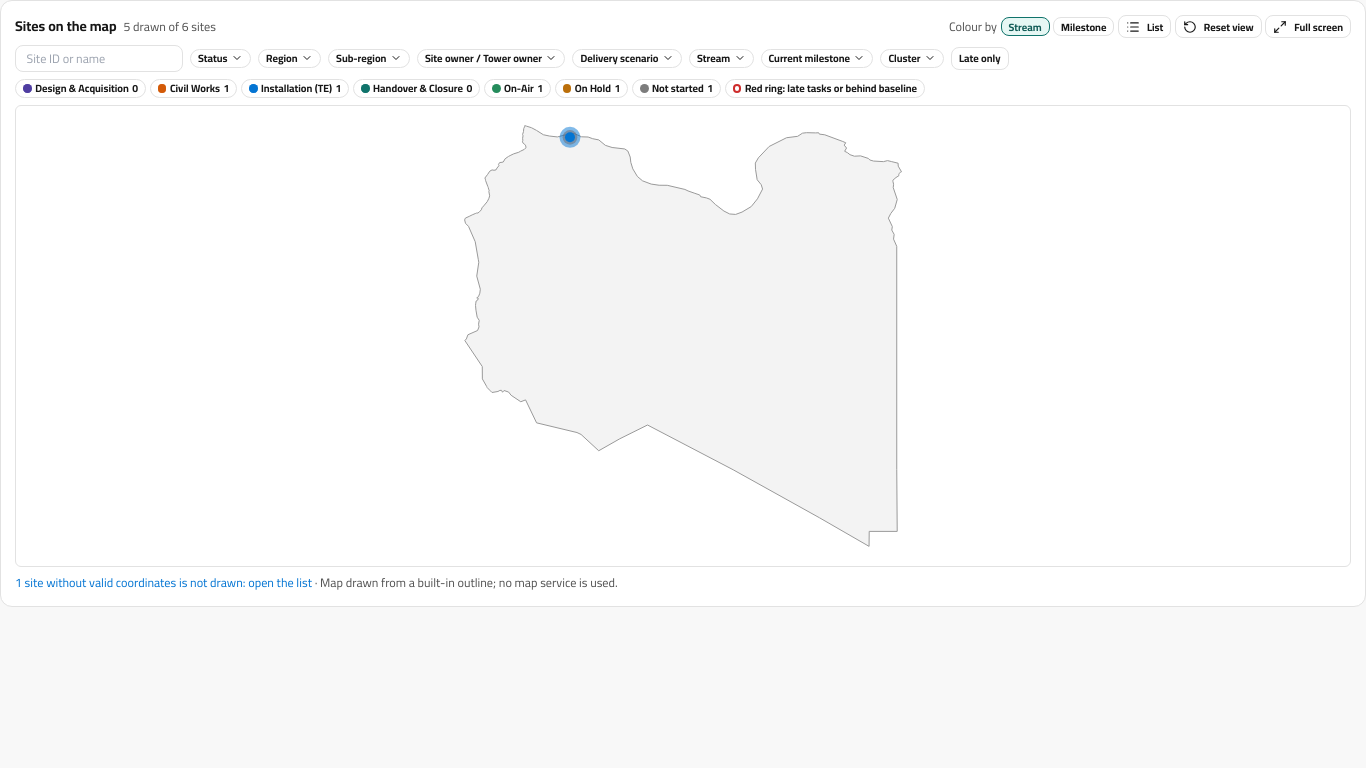
Scenario: SiteMap › filter chips change the counts and are kept in the URL; "late only" and the search too
This screenshot has width=1366, height=768.
Expected: the button with test id "map-legend-on_air" is shown, [484,78,551,98]
Click the button with test id "map-filter-region".
click(290, 58)  # box [266,51,313,65]
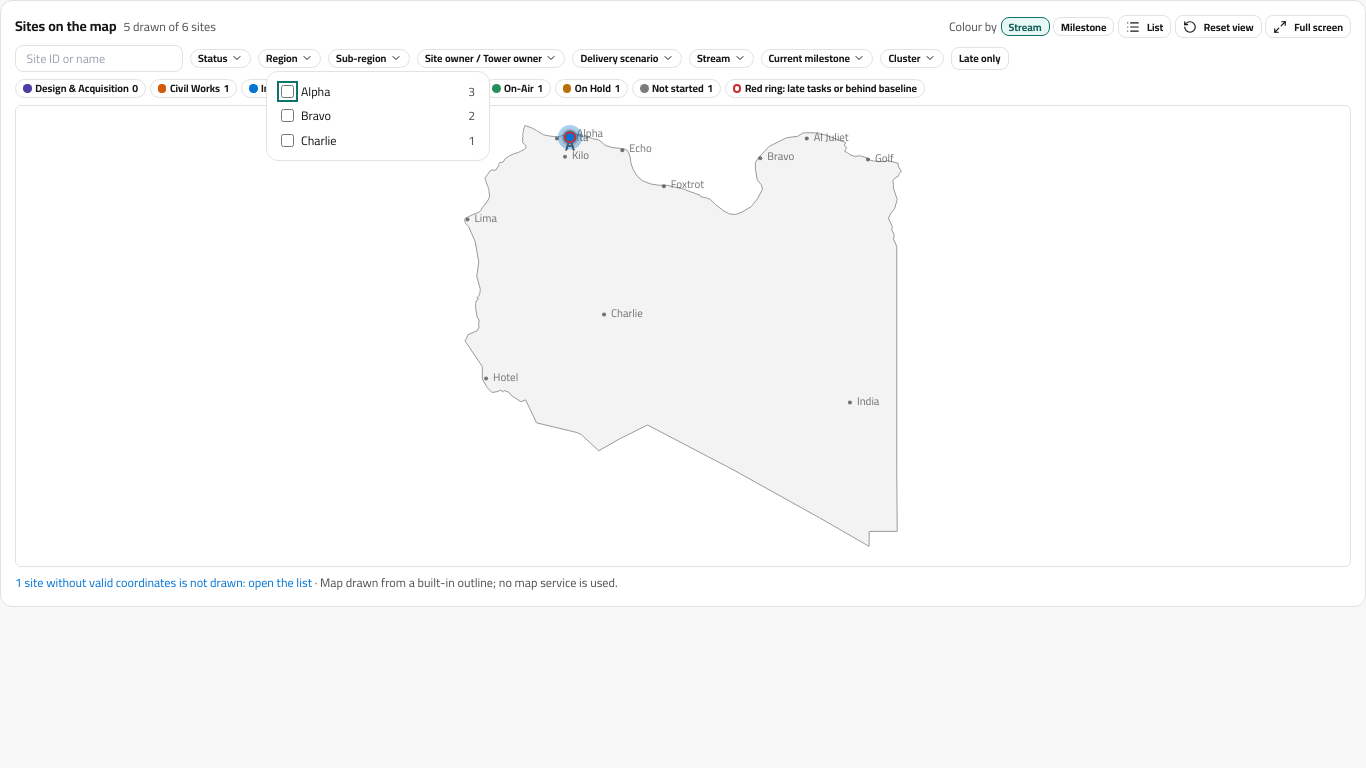
Click the checkbox with test id "map-opt-region-5".
click(288, 116)  # box [281,109,294,122]
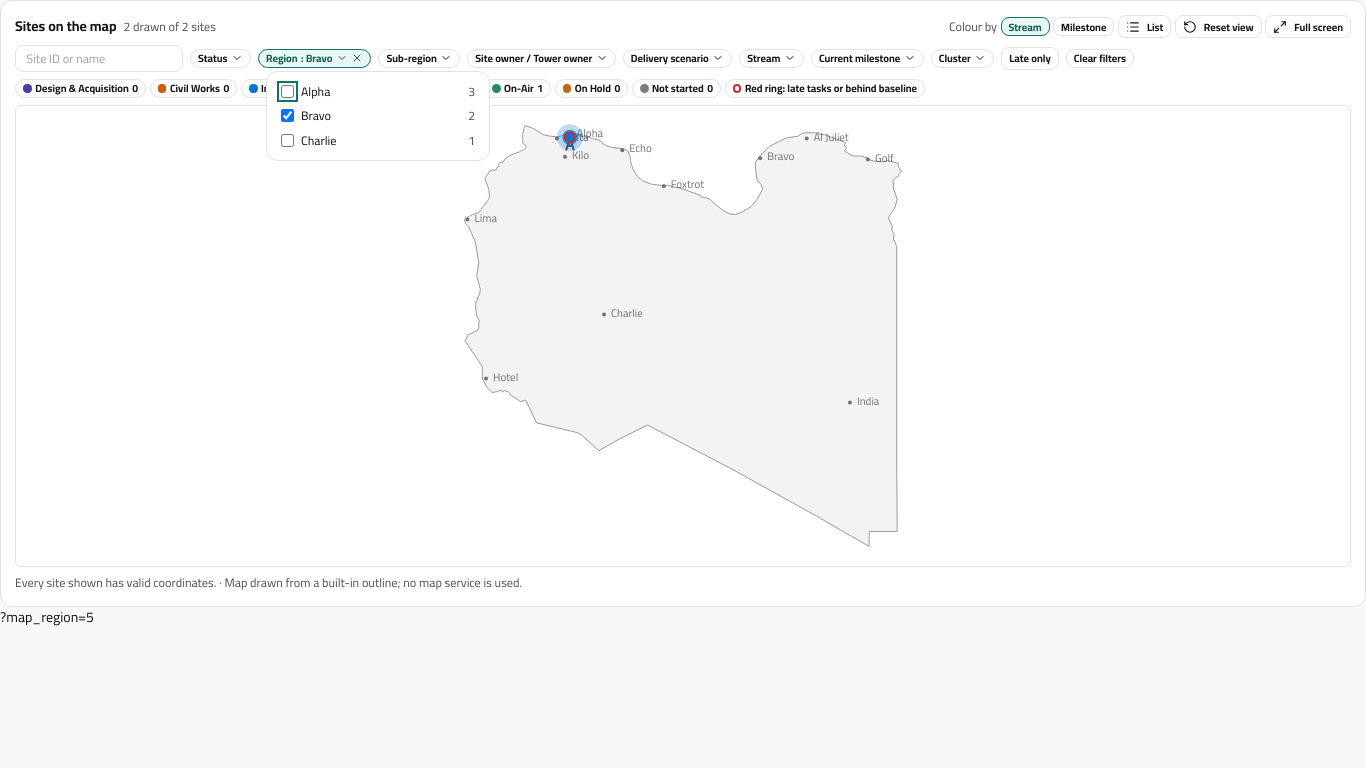
Expected: the text with test id "where" shows "map_region=5", [0,604,94,630]
Expected: the text with test id "map-count" reads "2 drawn of 2 sites", [124,15,216,38]
Click the button with test id "map-late".
click(1030, 58)  # box [1001,47,1059,70]
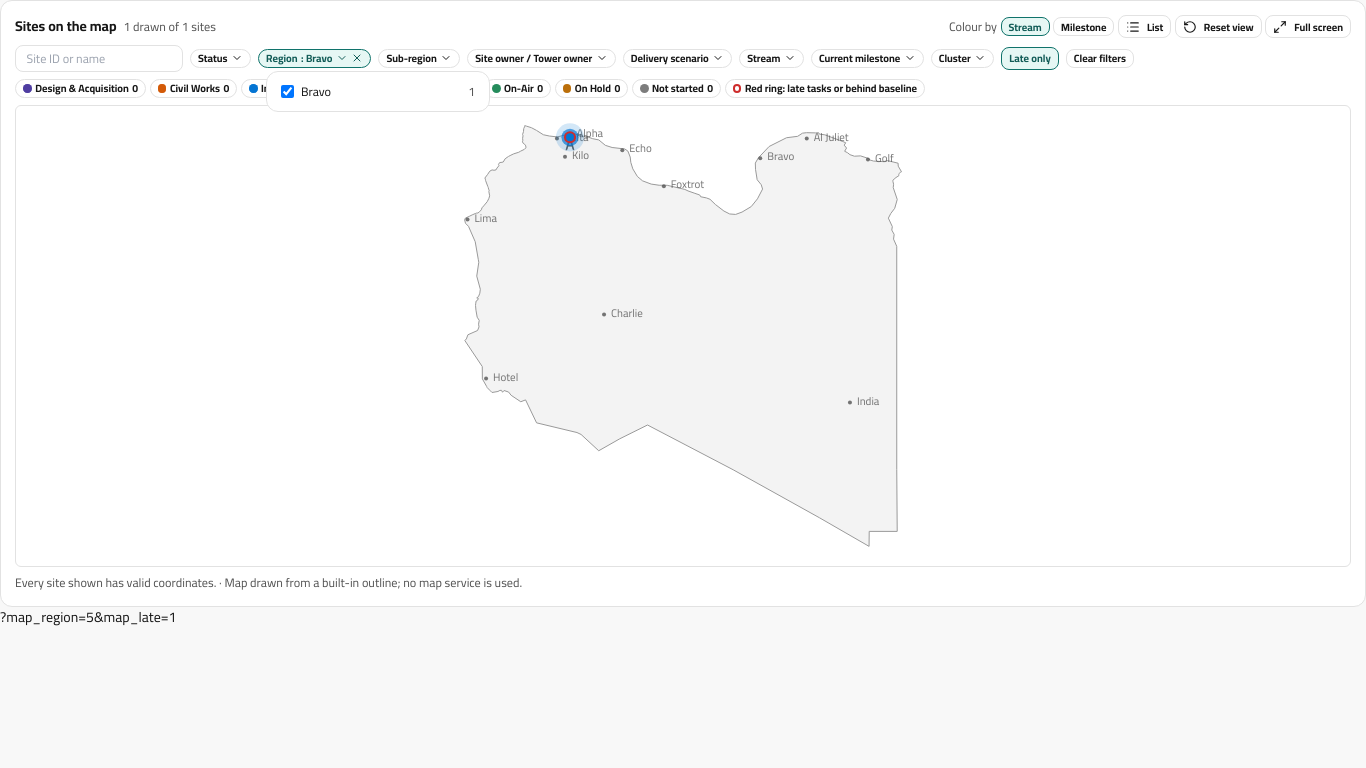
Expected: the text with test id "map-count" reads "1 drawn of 1 sites", [124,15,216,38]
Expected: the text with test id "where" shows "map_late=1", [0,604,176,630]
Click the button with test id "map-clear".
click(1100, 58)  # box [1066,48,1134,68]
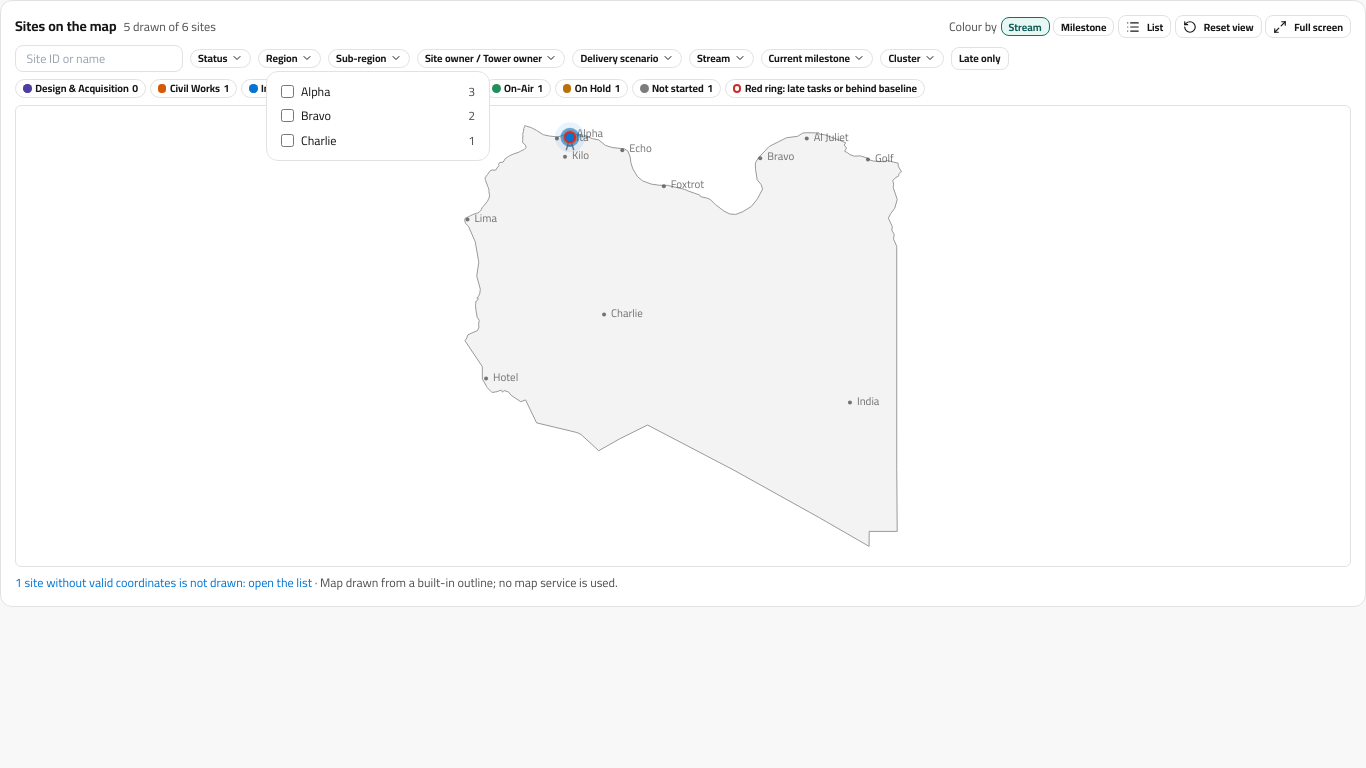
Expected: the text with test id "map-count" reads "5 drawn of 6 sites", [124,15,216,38]
Type "MAP-AIR" into the field with test id "map-search".
click(99, 58); type("MAP-AIR")  # box [15,45,183,72]
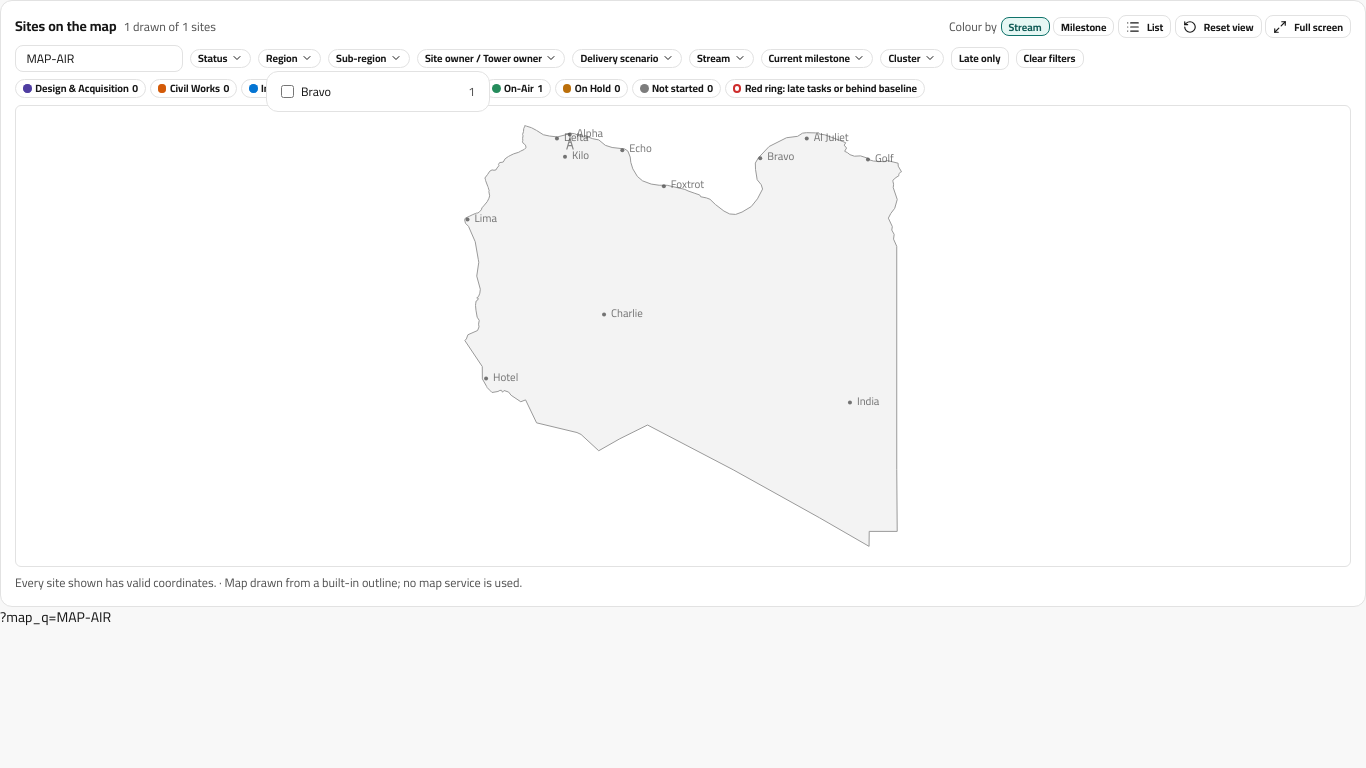
Expected: the text with test id "map-count" reads "1 drawn of 1 sites", [124,15,216,38]
